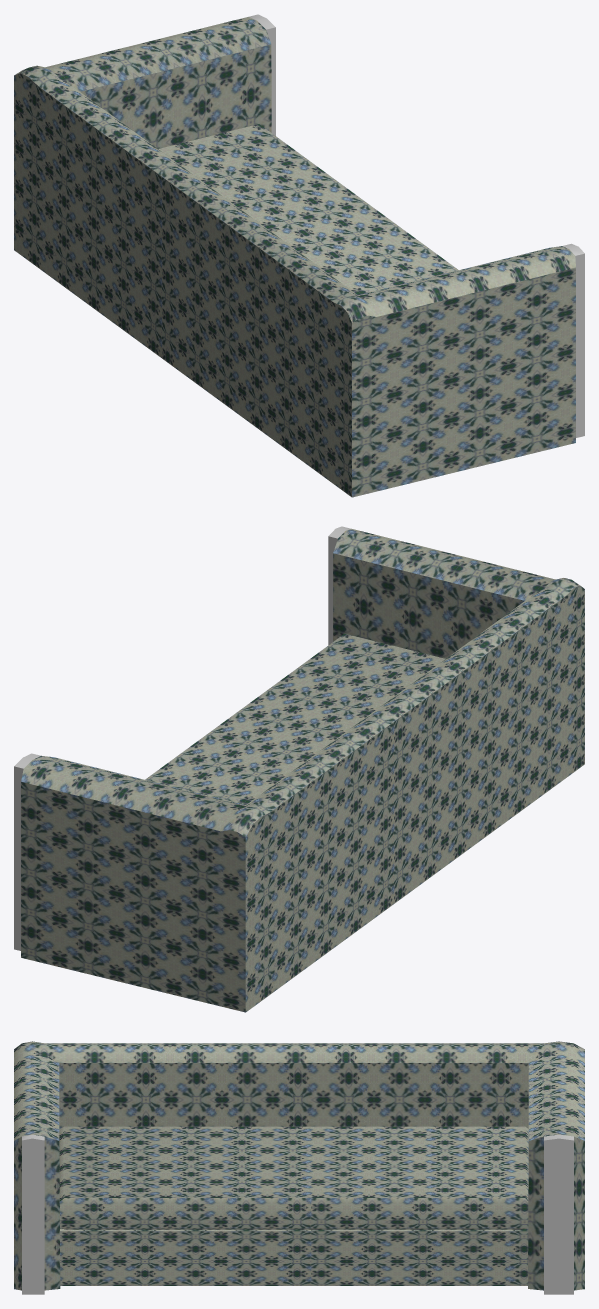
The model's file is Sofa03.fbx.
The picture shows the model from 3 angles, top to bottom: view 1: azimuth 30°, elevation 25°; view 2: azimuth 150°, elevation 25°; view 3: azimuth 270°, elevation 25°; orthographic projection. The views are drawn at different scales.
Parts seen in each view (by area): view 1: Cube (66); view 2: Cube (66); view 3: Cube (66).
Part boxes in pixels (x1=…): Cube (66): x1=14, y1=14, x2=584, y2=497; Cube (66): x1=14, y1=526, x2=584, y2=1012; Cube (66): x1=14, y1=1041, x2=584, y2=1294.
Size of the model in its own units: 102 by 76.71 by 250.
